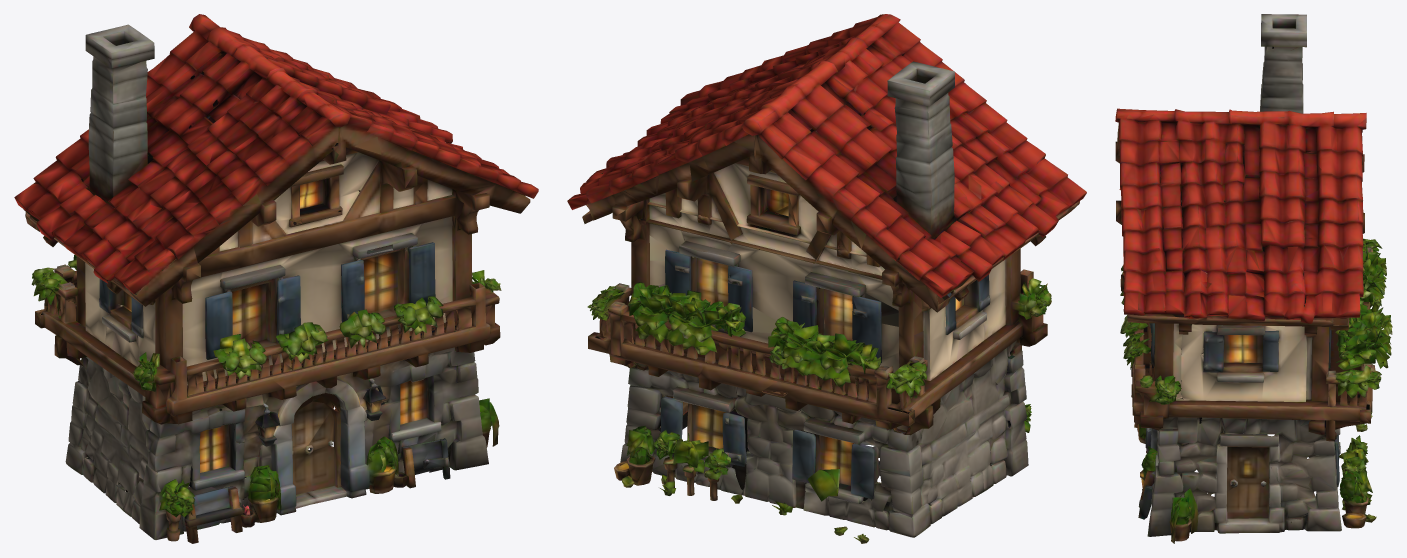
The model's file is alpine_house.glb.
3 views of the same model, side by side, from view 1: azimuth 30°, elevation 25°; view 2: azimuth 150°, elevation 25°; view 3: azimuth 270°, elevation 25° (orthographic). The views are drawn at different scales.
Visible parts, largest first — view 1: alpine_house_ai_structure; view 2: alpine_house_ai_structure; view 3: alpine_house_ai_structure.
Boxes of the visible parts, bbox=[...] form: alpine_house_ai_structure: bbox=[14, 14, 538, 543]; alpine_house_ai_structure: bbox=[567, 14, 1086, 543]; alpine_house_ai_structure: bbox=[1115, 14, 1392, 543].
Size of the model in its own units: 2.9 by 3 by 1.93.
1 material, 1 textured.
